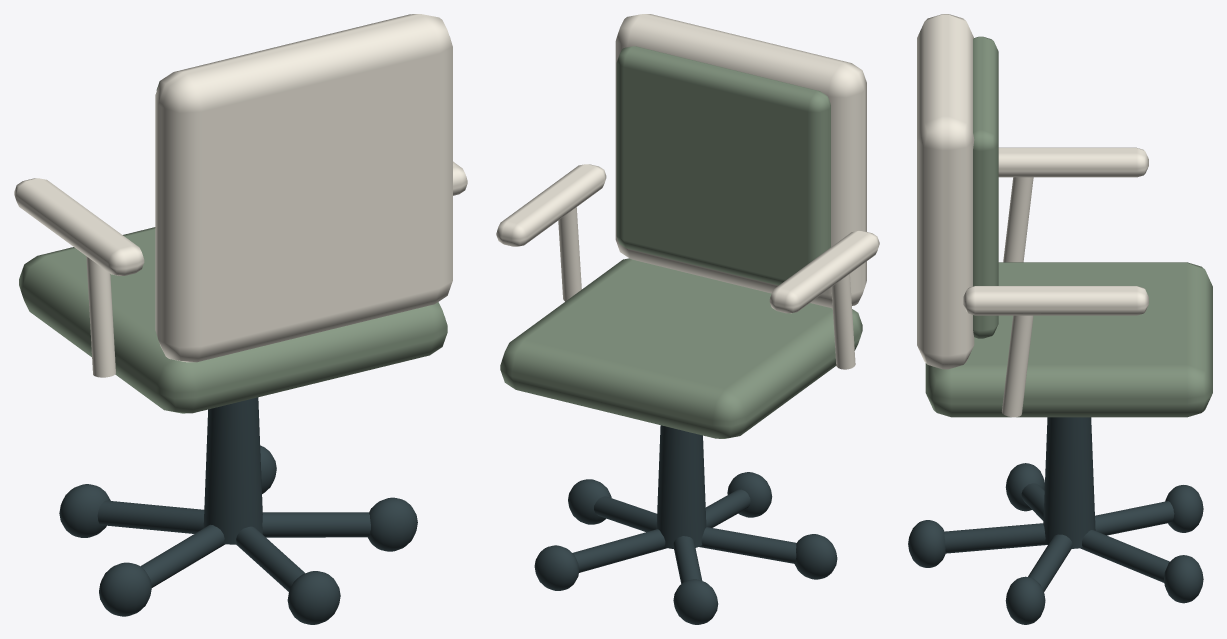
The model's file is chair.glb.
3 views of the same model, side by side, from view 1: azimuth 30°, elevation 25°; view 2: azimuth 150°, elevation 25°; view 3: azimuth 270°, elevation 25° (orthographic). The views are drawn at different scales.
Visible parts, largest first — view 1: Chair_cream, Chair_sage, Chair_charcoal; view 2: Chair_sage, Chair_cream, Chair_charcoal; view 3: Chair_sage, Chair_cream, Chair_charcoal.
Part boxes in pixels (x1,y1,x2,y2): Chair_cream: (14, 14, 467, 377); Chair_sage: (19, 81, 447, 413); Chair_charcoal: (59, 397, 417, 624); Chair_sage: (500, 46, 862, 438); Chair_cream: (496, 14, 879, 369); Chair_charcoal: (534, 425, 837, 624); Chair_sage: (925, 36, 1212, 417); Chair_cream: (917, 14, 1148, 417); Chair_charcoal: (908, 417, 1203, 624).
Size of the model in its own units: 0.82 by 1.25 by 0.69.
